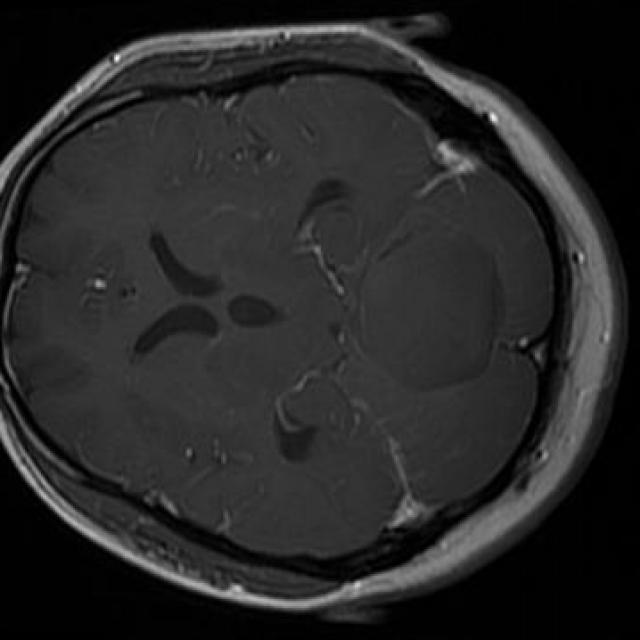glioma: (353, 226, 501, 394)
